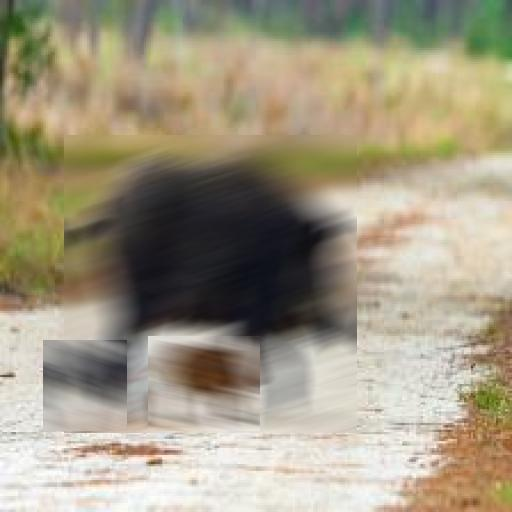Pig: (64, 135, 357, 433), (148, 336, 260, 431), (43, 340, 127, 431)
